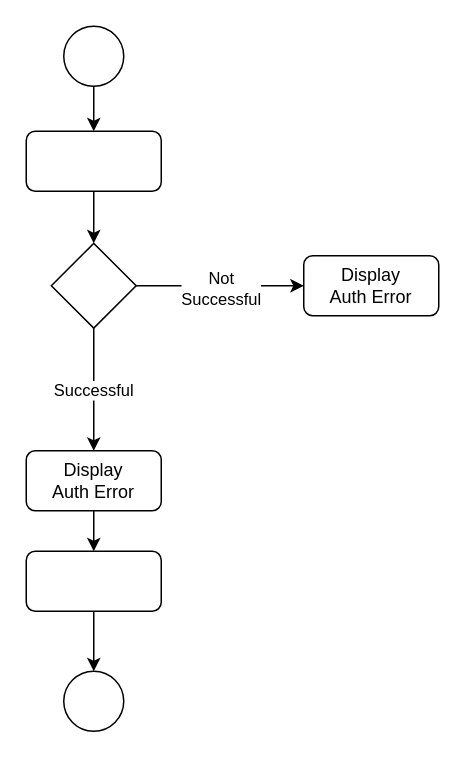
The diagram is 465 pixels wide and 758 high, and some of its shapes have lost their labels. Each missing label, with the centre of its shape:
Enter Credentials: point (93, 160)
Redirect to Profile Page: point (93, 580)
